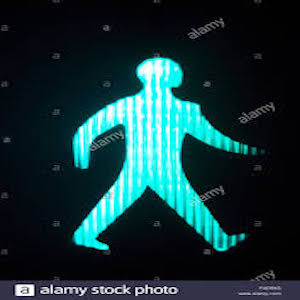green: (50, 44, 256, 266)
